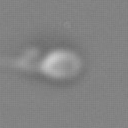abnormal: (1, 39, 44, 81)
